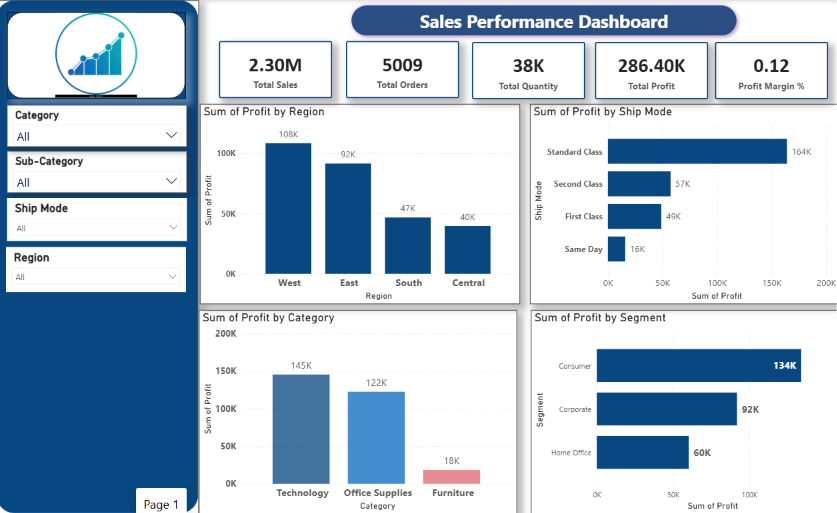

Layout of this report page (visuals, bound fields, positions):
{"tool":"powerbi","page":{"name":"Page 1","canvas":[1400,852],"ordinal":0},"visuals":[{"type":"actionButton","box":[0,0,100,40],"z":1000},{"type":"shape","box":[579.7,0,655.8,67.9],"z":2000},{"type":"shape","box":[0,0,336.2,851.3],"z":3000},{"type":"clusteredBarChart","fields":{"Category":["Orders.Segment"],"Y":["Sum(Orders.Profit)"]},"box":[886,513.4,513.4,337.9],"z":5000},{"type":"clusteredColumnChart","fields":{"Category":["Orders.Category"],"Y":["Sum(Orders.Profit)"]},"box":[336.2,514.1,526.7,337.9],"z":6000},{"type":"slicer","fields":{"Values":["Orders.Sub-Category"]},"box":[18.2,250.1,298.1,69.6],"z":7000},{"type":"slicer","fields":{"Values":["Orders.Ship Mode"]},"box":[18.2,327.9,298.1,71.2],"z":8000},{"type":"slicer","fields":{"Values":["Orders.Region"]},"box":[16.6,409.1,298.1,74.5],"z":9000},{"type":"image","box":[18,20,296,144],"z":10000},{"type":"clusteredBarChart","fields":{"Category":["Orders.Ship Mode"],"Y":["Sum(Orders.Profit)"]},"box":[884.4,172.2,513.4,331.2],"z":13000},{"type":"clusteredColumnChart","fields":{"Category":["Orders.Region"],"Y":["Sum(Orders.Profit)"]},"box":[337.9,172.2,530,331.2],"z":14000},{"type":"slicer","fields":{"Values":["Orders.Category"]},"box":[18.2,173.9,298.1,69.6],"z":15000},{"type":"card","fields":{"Values":["Orders.Total Sales"]},"box":[369.3,67.9,187.1,94.4],"z":16000},{"type":"card","fields":{"Values":["Orders.Total Orders"]},"box":[579.7,67.9,187.1,94.4],"z":17000},{"type":"card","fields":{"Values":["Orders.Total Quantity"]},"box":[787.8,69.7,187.1,94.4],"z":18000},{"type":"card","fields":{"Values":["Orders.Profit Margin %"]},"box":[1190.8,69.6,187.1,94.4],"z":19000},{"type":"card","fields":{"Values":["Orders.Total Profit"]},"box":[992,69.6,187.1,94.4],"z":20000}]}

Visuals, with their boxes in screenshot pixels (x1, y1, x2, y2), scaled from the page's 1400x852 canvas onto the 837x513 screenshot:
actionButton: 0/0/60/24
shape: 347/0/739/41
shape: 0/0/201/512
clusteredBarChart - Orders.Segment x Sum(Orders.Profit): 530/309/836/512
clusteredColumnChart - Orders.Category x Sum(Orders.Profit): 201/310/516/512
slicer - Orders.Sub-Category: 11/151/189/192
slicer - Orders.Ship Mode: 11/197/189/240
slicer - Orders.Region: 10/246/188/291
image: 11/12/188/99
clusteredBarChart - Orders.Ship Mode x Sum(Orders.Profit): 529/104/836/303
clusteredColumnChart - Orders.Region x Sum(Orders.Profit): 202/104/519/303
slicer - Orders.Category: 11/105/189/147
card - Orders.Total Sales: 221/41/333/98
card - Orders.Total Orders: 347/41/458/98
card - Orders.Total Quantity: 471/42/583/99
card - Orders.Profit Margin %: 712/42/824/99
card - Orders.Total Profit: 593/42/705/99
